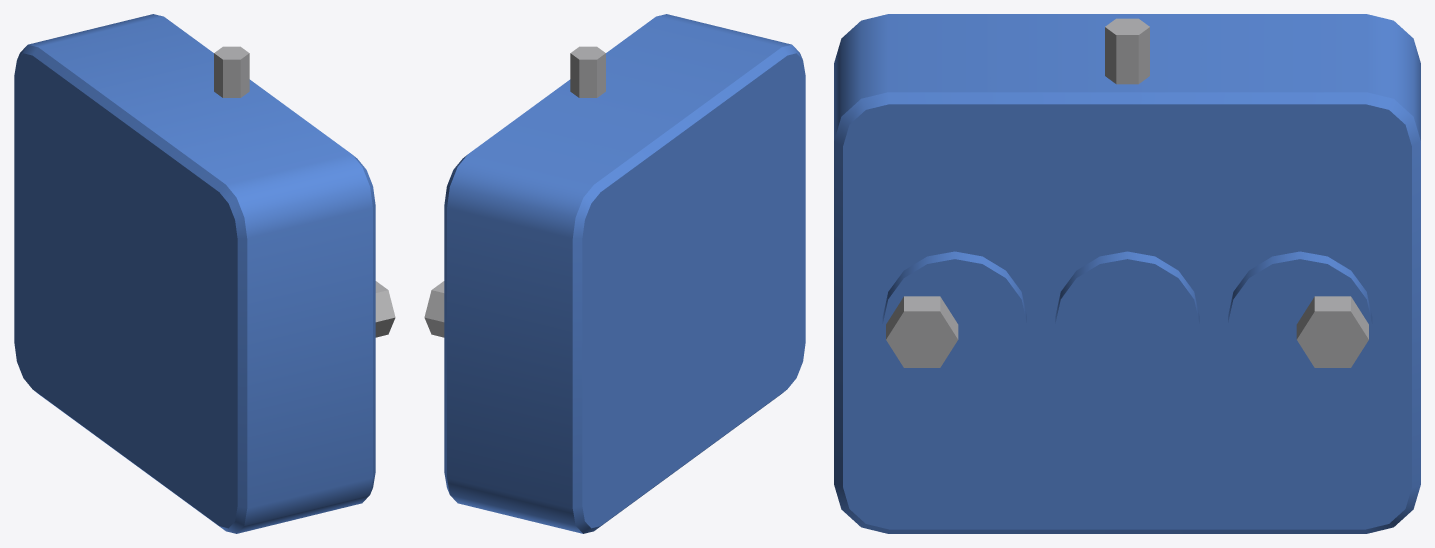
File: six_piston_race.glb
The picture shows the model from 3 angles, left to right: view 1: azimuth 30°, elevation 25°; view 2: azimuth 150°, elevation 25°; view 3: azimuth 270°, elevation 25°; orthographic projection. The views are drawn at different scales.
Parts seen in each view (by area): view 1: lod0; view 2: lod0; view 3: lod0.
Boxes of the visible parts, x1=… form: lod0: x1=14, y1=14, x2=395, y2=533; lod0: x1=424, y1=14, x2=805, y2=533; lod0: x1=834, y1=14, x2=1420, y2=533.
Size of what is drawn, in the model's own units: 0.057 by 0.12 by 0.13.
